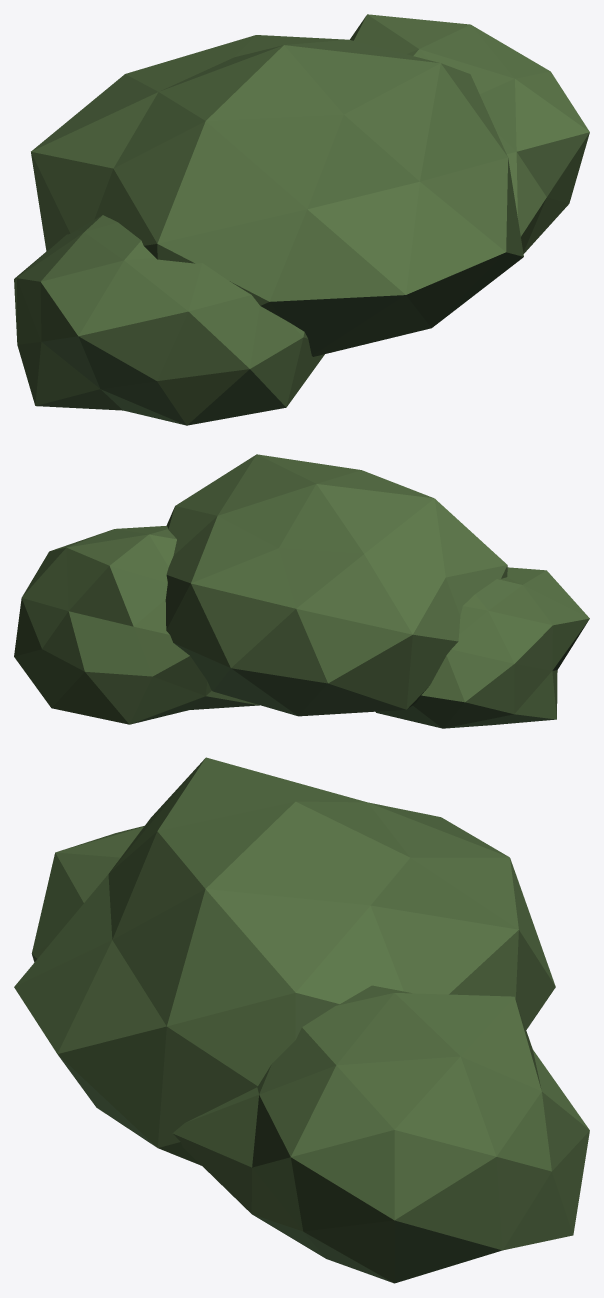
File: shrub.glb
3 views of the same model, one above another, from view 1: azimuth 30°, elevation 25°; view 2: azimuth 150°, elevation 25°; view 3: azimuth 270°, elevation 25° (orthographic). The views are drawn at different scales.
Parts seen in each view (by area): view 1: shrub; view 2: shrub; view 3: shrub.
Boxes of the visible parts, box(x1,y1,x2,y2) form: shrub: box(14, 14, 589, 425); shrub: box(14, 454, 589, 728); shrub: box(14, 757, 589, 1283).
Bounding box in the file's own units: 2.09 × 0.8737 × 1.46.
